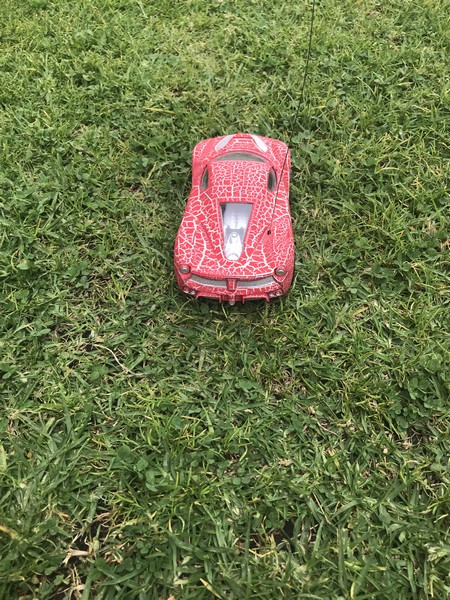RC: (172, 133, 298, 307)
